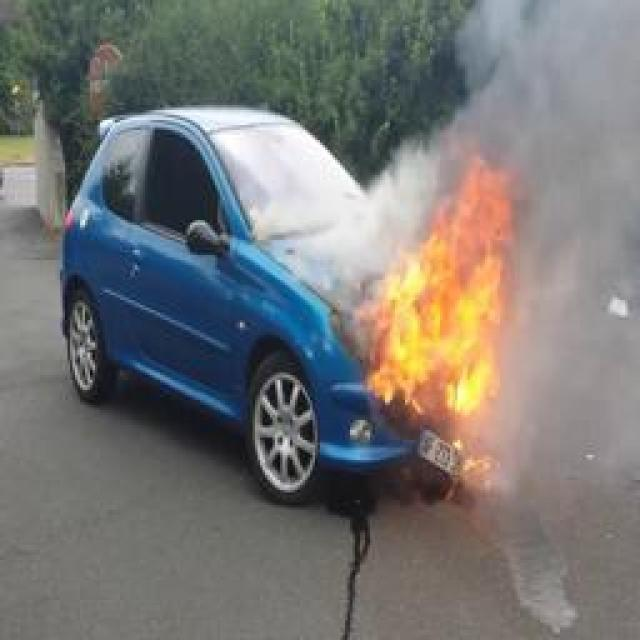Fire: (365, 141, 515, 491)
